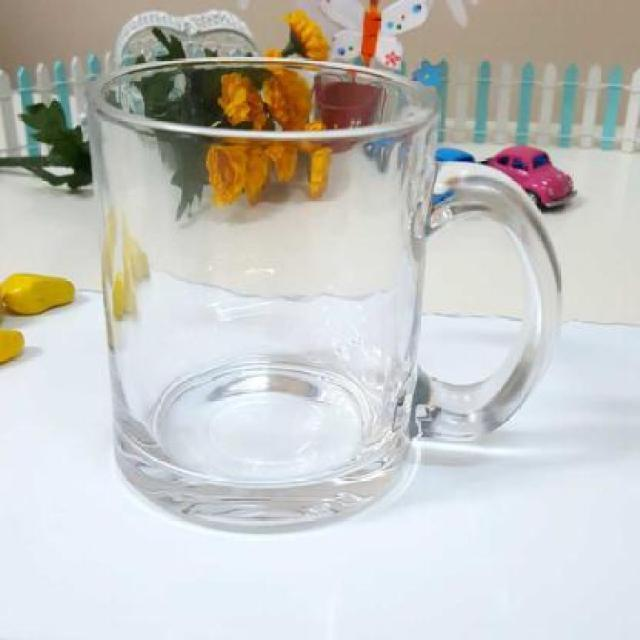taza: (87, 58, 564, 532)
